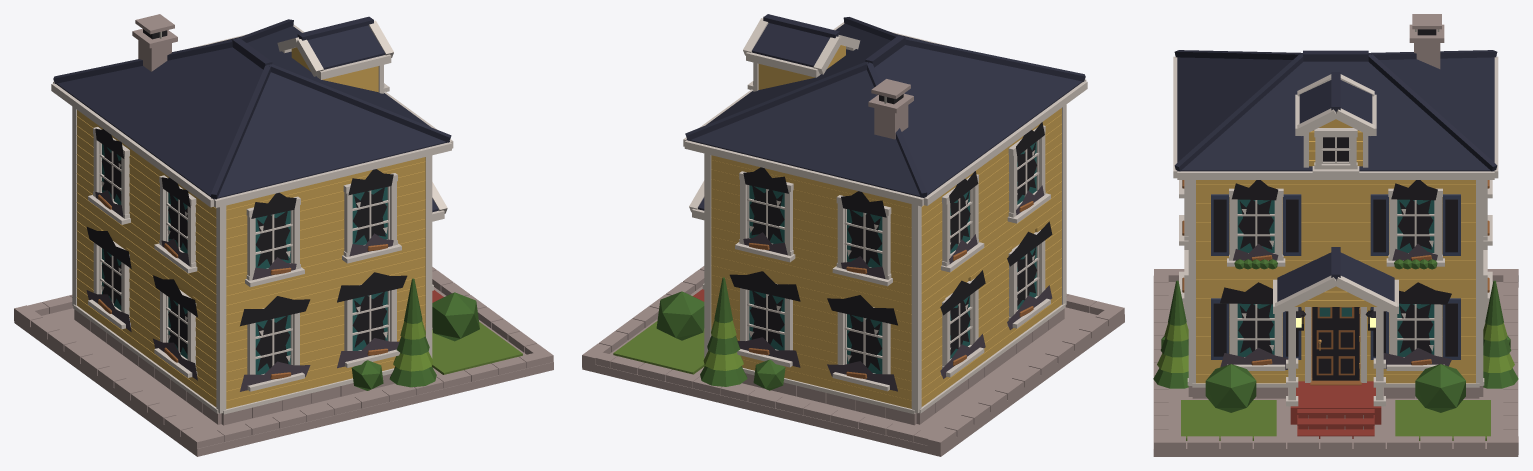
The model's file is bld.house-d.w3.glb.
3 renders of one model, left to right at view 1: azimuth 30°, elevation 25°; view 2: azimuth 150°, elevation 25°; view 3: azimuth 270°, elevation 25°, orthographic.
Visible parts, largest first — view 1: object 6, roof, body; view 2: object 6, roof, body; view 3: object 6, roof, body, door_front.
Boxes of the visible parts, left/top/right/bottom form: object 6: left=14, top=127, right=553, bottom=456; roof: left=51, top=14, right=453, bottom=221; body: left=72, top=106, right=443, bottom=425; object 6: left=582, top=122, right=1124, bottom=456; roof: left=683, top=14, right=1087, bottom=220; body: left=693, top=104, right=1066, bottom=425; object 6: left=1153, top=180, right=1518, bottom=456; roof: left=1173, top=14, right=1498, bottom=313; body: left=1187, top=180, right=1484, bottom=438; door_front: left=1312, top=307, right=1360, bottom=380.
Bounding box in the file's own units: 9 × 7.5 × 8.02.
